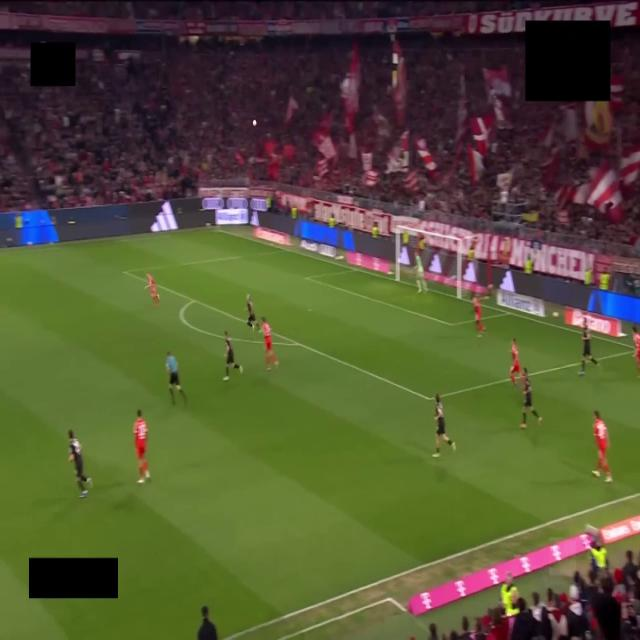player: (68, 430, 92, 497), (433, 394, 455, 457), (593, 411, 612, 482), (521, 368, 541, 429), (134, 410, 150, 484), (579, 319, 598, 375), (223, 332, 242, 381), (262, 317, 278, 370), (473, 295, 486, 336), (510, 338, 521, 385), (145, 273, 159, 305), (416, 252, 427, 292), (247, 295, 256, 330), (633, 327, 639, 377)
referee: (166, 352, 186, 404)
